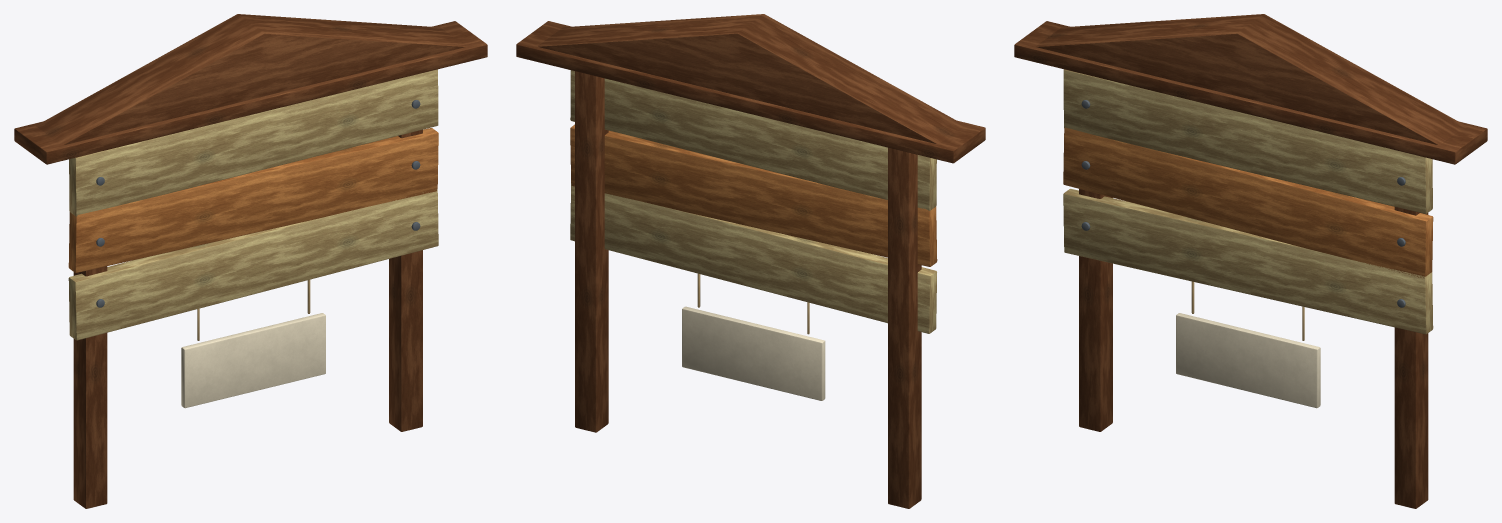
File: cartel_tienda.gltf
3 views of the same model, side by side, from view 1: azimuth 30°, elevation 25°; view 2: azimuth 150°, elevation 25°; view 3: azimuth 330°, elevation 25° (orthographic).
Parts seen in each view (by area): view 1: cartel_tienda; view 2: cartel_tienda; view 3: cartel_tienda.
Boxes of the visible parts, x1,y1,x2,y2 form: cartel_tienda: (14, 14, 487, 508); cartel_tienda: (516, 14, 985, 508); cartel_tienda: (1014, 14, 1487, 508).
Size of the model in its own units: 2.8 by 2.68 by 0.36.
6 materials, 6 textured.
